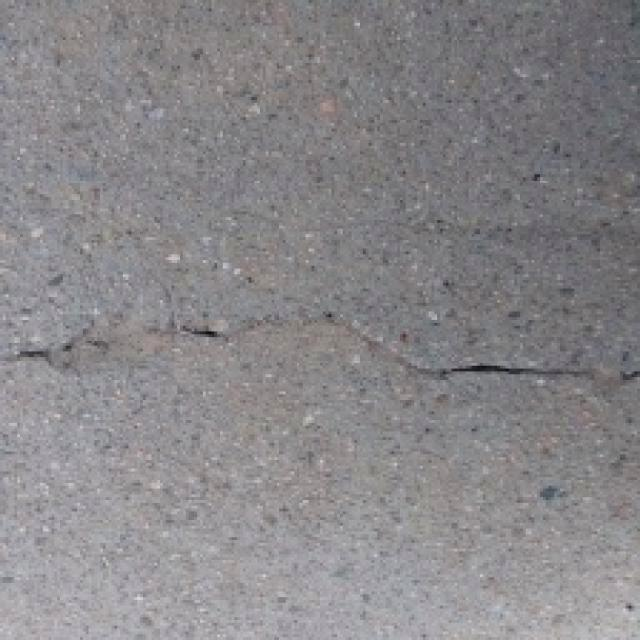SurfaceCrack: (6, 304, 640, 406)
